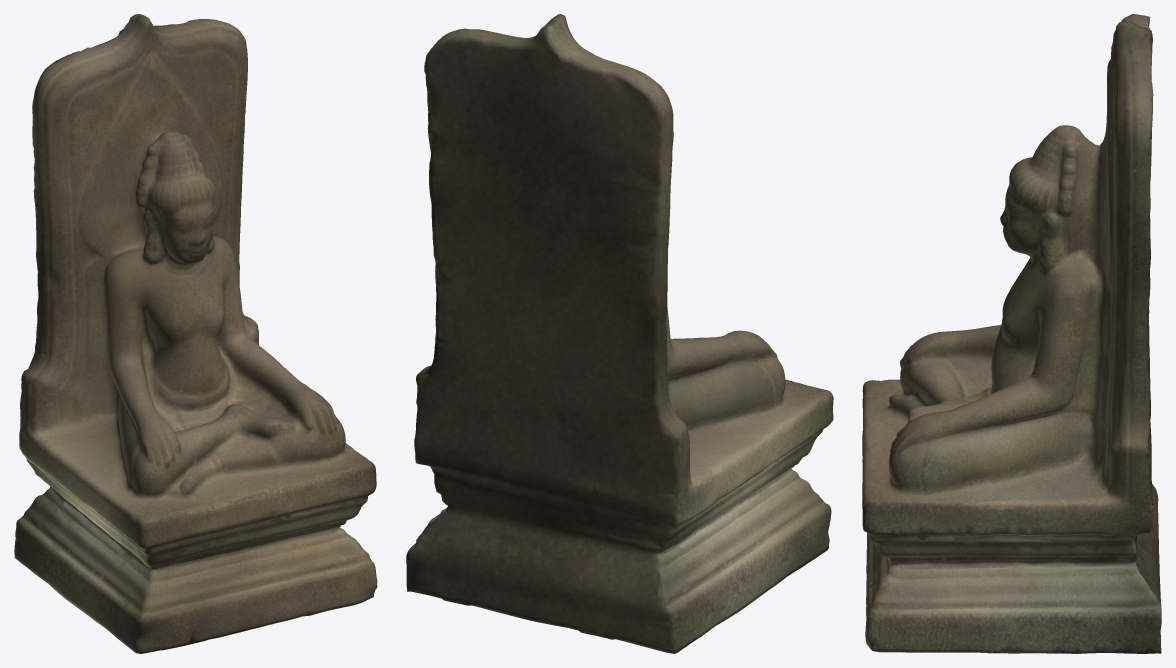
Rendered from 19_thanphuonghuong_isana_final.glb.
3 renders of one model, left to right at view 1: azimuth 30°, elevation 25°; view 2: azimuth 150°, elevation 25°; view 3: azimuth 270°, elevation 25°, orthographic. The views are drawn at different scales.
Size of the model in its own units: 0.3764 by 0.7769 by 0.3705.
Materials: 1 (1 with a texture image).
